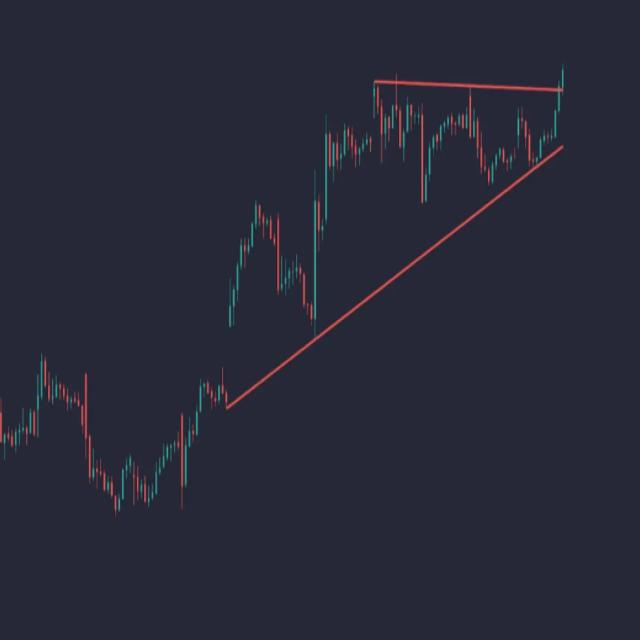Ascending-Triangle: (209, 83, 629, 417)
